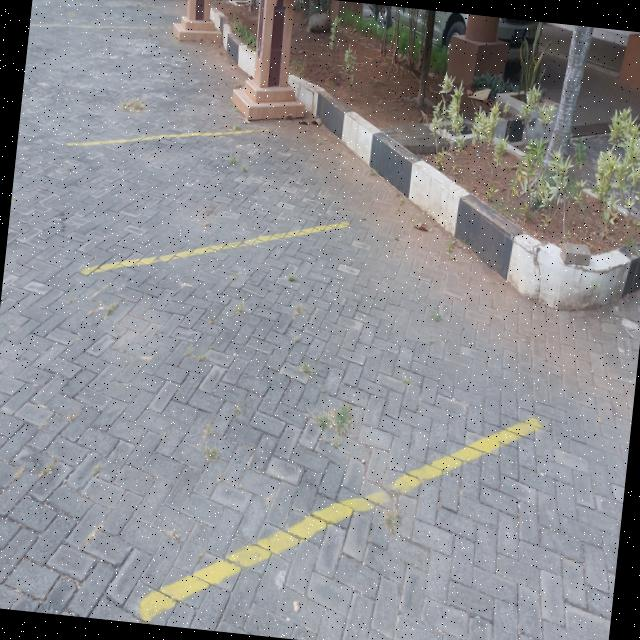empty: (92, 224, 532, 613), (71, 124, 346, 263)
